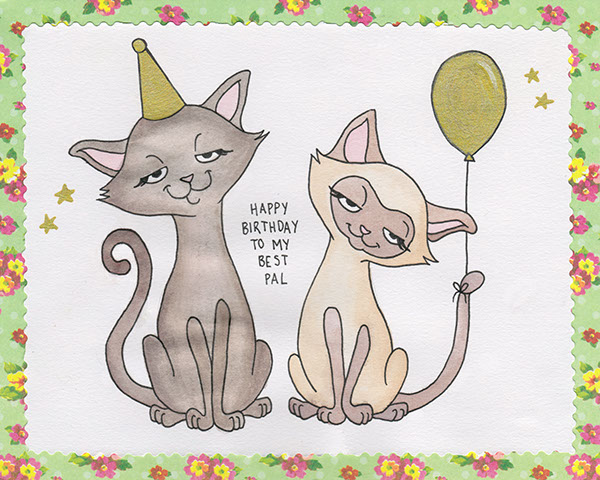cat: (284, 42, 528, 444), (35, 44, 280, 443)
